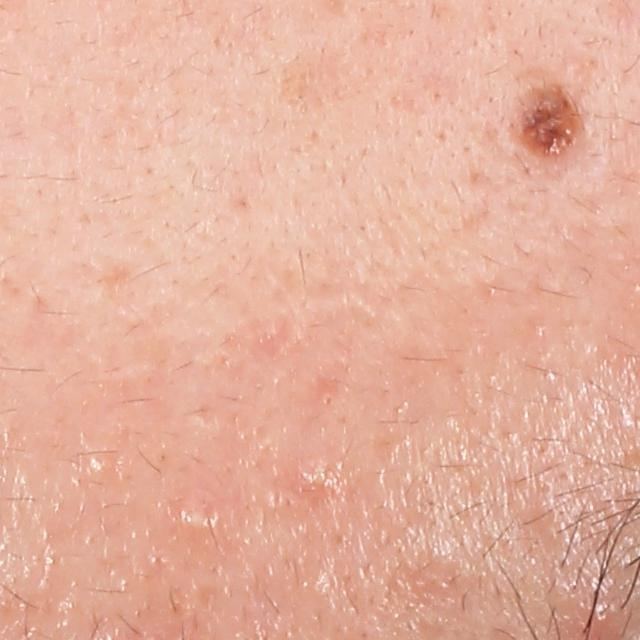nevus: (504, 76, 587, 171)
pustule: (293, 454, 343, 500), (176, 497, 218, 542)
